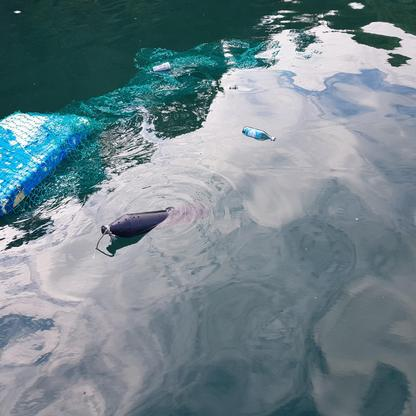can: (151, 60, 170, 71)
plastic bottle: (241, 126, 276, 143)
